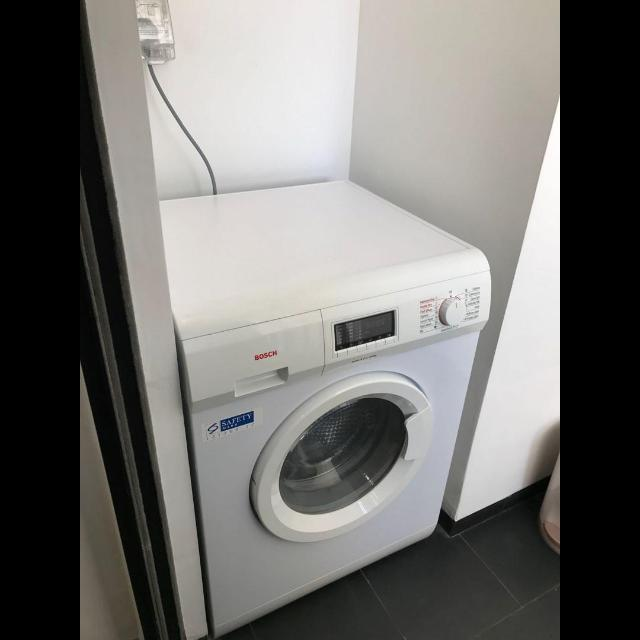Washing-Machine: (159, 198, 486, 612)
